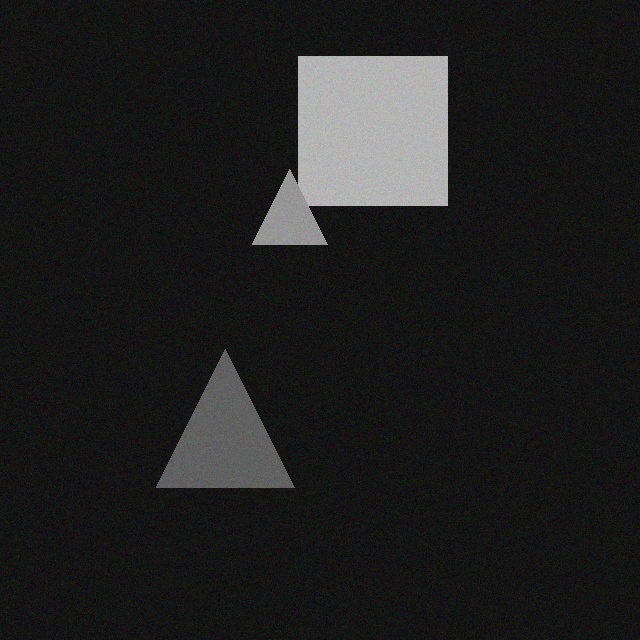square: (291, 48, 440, 197)
triangle: (149, 341, 287, 479), (245, 161, 320, 236)
